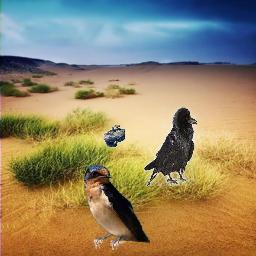Crow: (145, 108, 198, 187), (103, 125, 125, 147)
Swallow: (84, 164, 150, 250)
